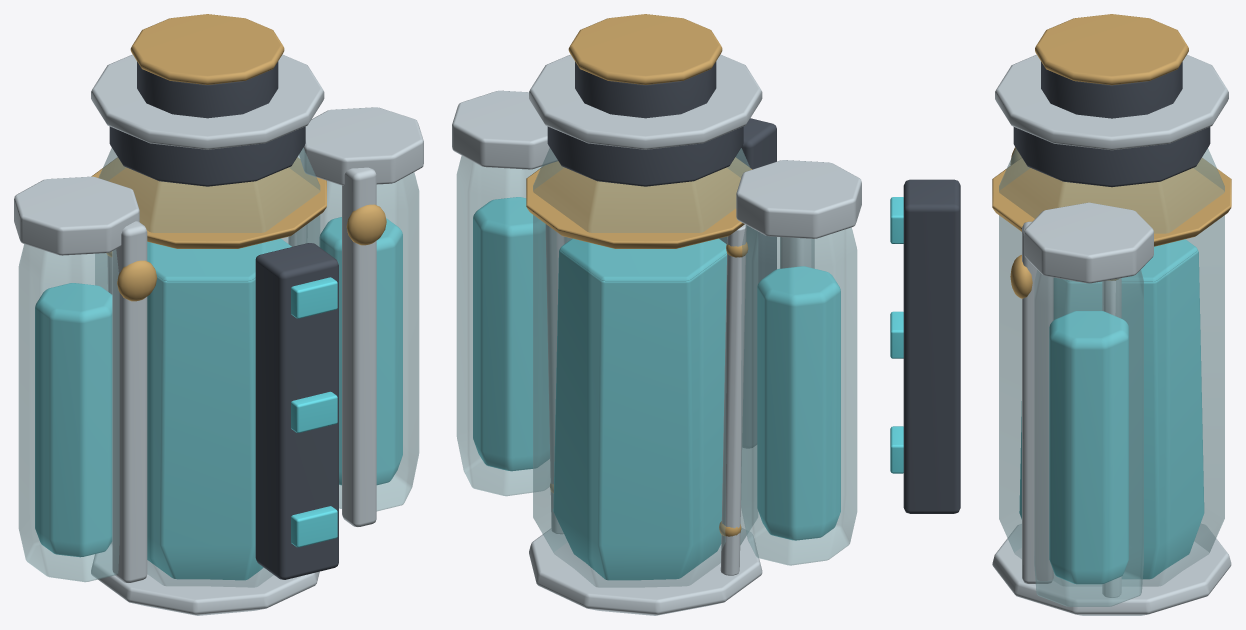
File: SM_Flask_Overcharge.fbx
3 views of the same model, side by side, from view 1: azimuth 30°, elevation 25°; view 2: azimuth 150°, elevation 25°; view 3: azimuth 270°, elevation 25° (orthographic).
Parts seen in each view (by area): view 1: glass_CutVessel, glass_TwinAmpoule, liquid_ContainedEssence, dark_Insulator, liquid_TwinCharge, glass_TwinAmpoule.001, gold_ShoulderRim, metal_CondenserRail, metal_CondenserRail.001, metal_MouthLip, gold_CapInset, liquid_TwinCharge.001 (+11 smaller); view 2: glass_CutVessel, liquid_ContainedEssence, glass_TwinAmpoule, glass_TwinAmpoule.001, liquid_TwinCharge, liquid_TwinCharge.001, gold_ShoulderRim, metal_MouthLip, metal_BaseRing, gold_CapInset, metal_TwinCap, dark_NeckSleeve (+7 smaller); view 3: glass_CutVessel, glass_TwinAmpoule.001, liquid_ContainedEssence, liquid_TwinCharge.001, dark_Insulator, metal_MouthLip, gold_ShoulderRim, metal_CondenserRail.001, metal_BaseRing, metal_TwinCap.001, gold_CapInset, dark_NeckSleeve (+7 smaller).
Boxes of the visible parts, <box> form: glass_CutVessel: <box>95,148,320,587</box>; glass_TwinAmpoule: <box>18,244,119,582</box>; liquid_ContainedEssence: <box>147,276,263,580</box>; dark_Insulator: <box>255,243,338,579</box>; liquid_TwinCharge: <box>35,283,112,557</box>; glass_TwinAmpoule.001: <box>307,172,419,511</box>; gold_ShoulderRim: <box>91,157,326,248</box>; metal_CondenserRail: <box>112,221,147,583</box>; metal_CondenserRail.001: <box>342,167,376,527</box>; metal_MouthLip: <box>91,54,324,149</box>; gold_CapInset: <box>130,14,284,84</box>; liquid_TwinCharge.001: <box>319,217,402,485</box>; glass_CutVessel: <box>533,148,757,587</box>; liquid_ContainedEssence: <box>553,250,726,580</box>; glass_TwinAmpoule: <box>741,225,857,565</box>; glass_TwinAmpoule.001: <box>456,155,571,496</box>; liquid_TwinCharge: <box>757,266,840,540</box>; liquid_TwinCharge.001: <box>473,197,549,471</box>; gold_ShoulderRim: <box>526,157,751,248</box>; metal_MouthLip: <box>529,54,762,149</box>; metal_BaseRing: <box>529,528,762,615</box>; gold_CapInset: <box>568,14,722,84</box>; metal_TwinCap: <box>736,160,861,238</box>; dark_NeckSleeve: <box>547,126,743,186</box>; glass_CutVessel: <box>999,148,1224,586</box>; glass_TwinAmpoule.001: <box>1034,270,1143,606</box>; liquid_ContainedEssence: <box>1019,250,1204,579</box>; liquid_TwinCharge.001: <box>1049,311,1128,584</box>; dark_Insulator: <box>903,179,960,513</box>; metal_MouthLip: <box>995,54,1228,150</box>; gold_ShoulderRim: <box>992,158,1231,246</box>; metal_CondenserRail.001: <box>1022,221,1053,583</box>; metal_BaseRing: <box>992,524,1231,615</box>; metal_TwinCap.001: <box>1024,202,1153,283</box>; gold_CapInset: <box>1035,14,1188,85</box>; dark_NeckSleeve: <box>1013,127,1210,187</box>.
Size of the model in its own units: 36.27 by 46.5 by 26.95.
